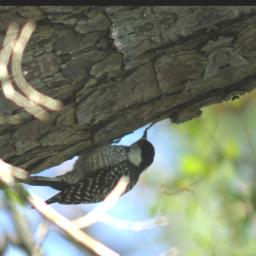Woodpecker: (13, 125, 166, 231)
